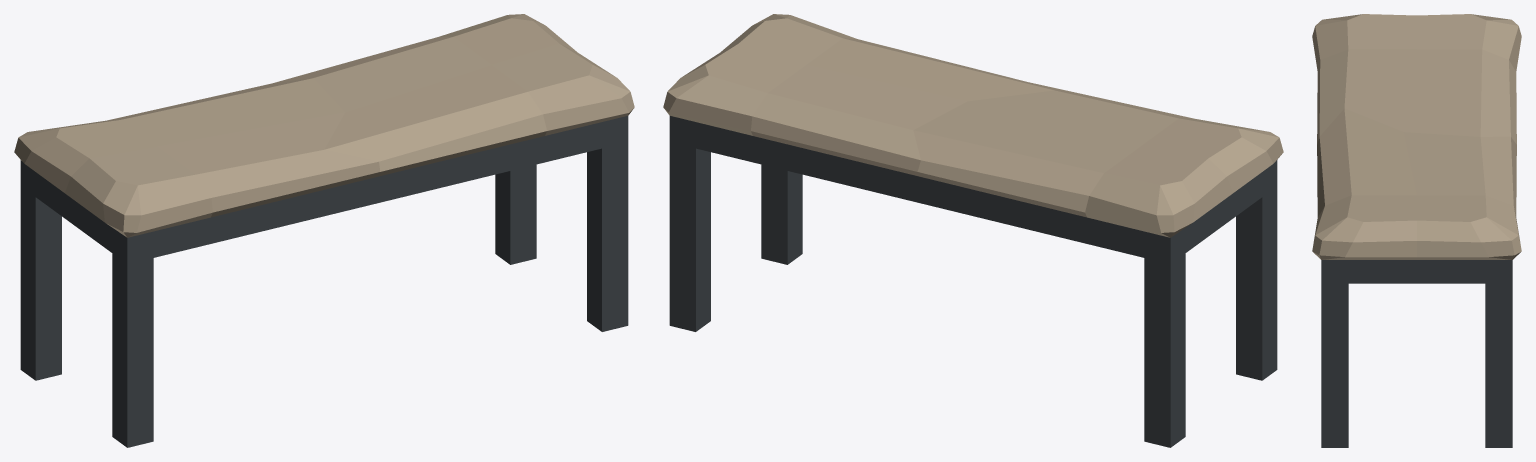
The model's file is SM_Prop_DiningChair_03.fbx.
3 views of the same model, side by side, from view 1: azimuth 30°, elevation 25°; view 2: azimuth 150°, elevation 25°; view 3: azimuth 270°, elevation 25° (orthographic). The views are drawn at different scales.
Parts seen in each view (by area): view 1: SM_Prop_DiningChair_03; view 2: SM_Prop_DiningChair_03; view 3: SM_Prop_DiningChair_03.
Boxes of the visible parts, left/top/right/bottom form: SM_Prop_DiningChair_03: left=14, top=14, right=634, bottom=447; SM_Prop_DiningChair_03: left=663, top=14, right=1283, bottom=447; SM_Prop_DiningChair_03: left=1312, top=14, right=1521, bottom=447.
Size of the model in its own units: 142 by 64.6 by 55.61.
